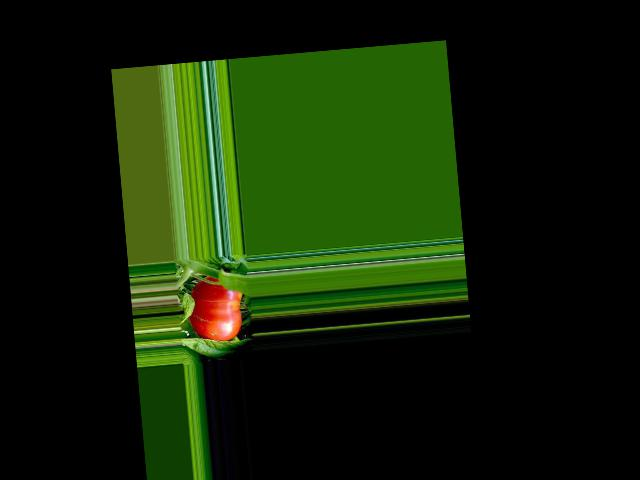tomato: (186, 273, 246, 344)
